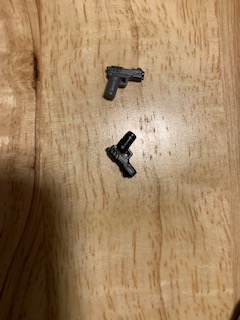pistol: (97, 60, 148, 102), (104, 130, 142, 179)
